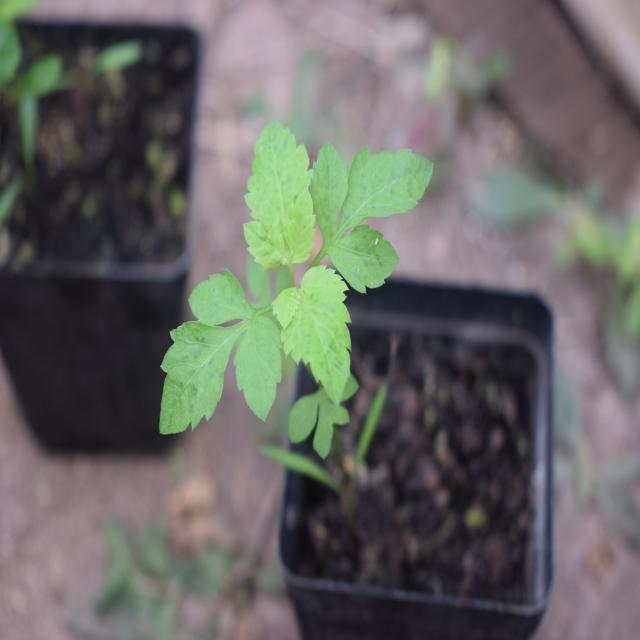Bidens pilosa: (164, 129, 434, 459)
